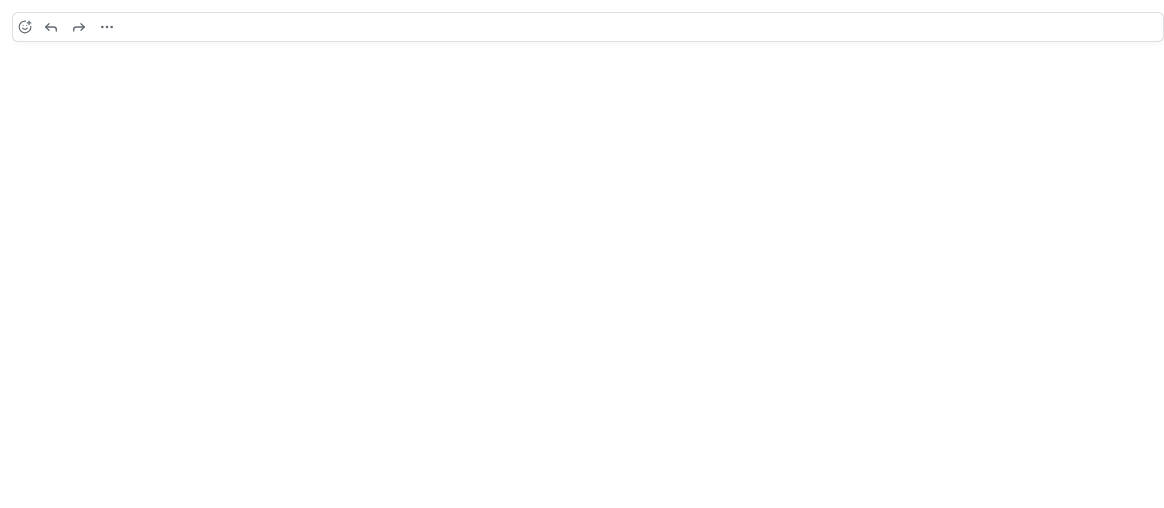
Test: messageActionBar › opens the defer submenu in a dedicated fly-in panel
What coordinates should you click on to do the following:
click the button with test id "message-more-trigger"
I would click on:
 (107, 27)
Its box is x1=93 y1=13 x2=121 y2=41.
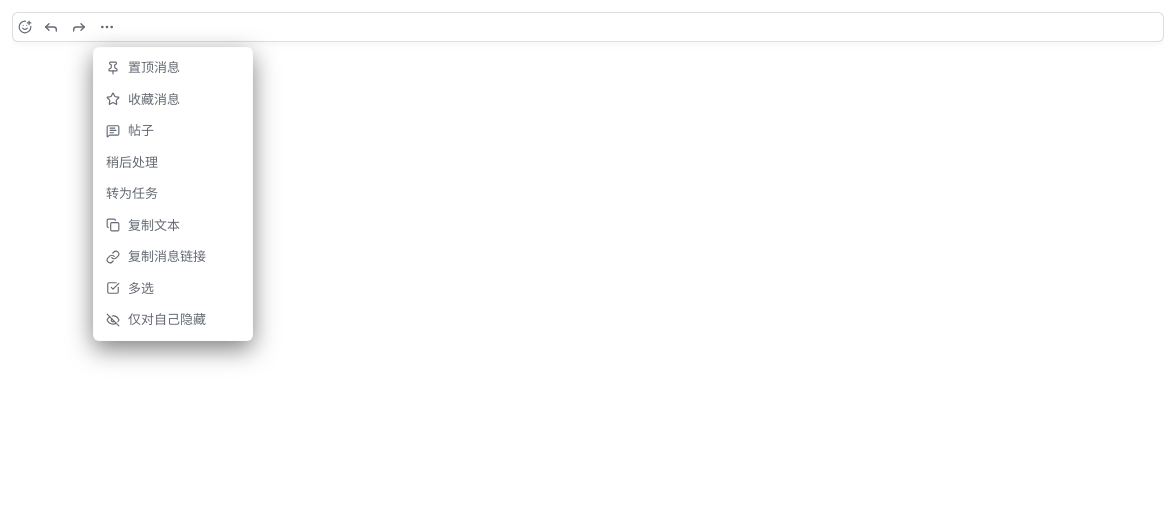
Expected: the button with test id "message-defer-trigger" is shown
What coordinates should you click on to do the following:
click the button with test id "message-defer-trigger"
I would click on:
 (173, 162)
Its box is x1=94 y1=146 x2=252 y2=178.
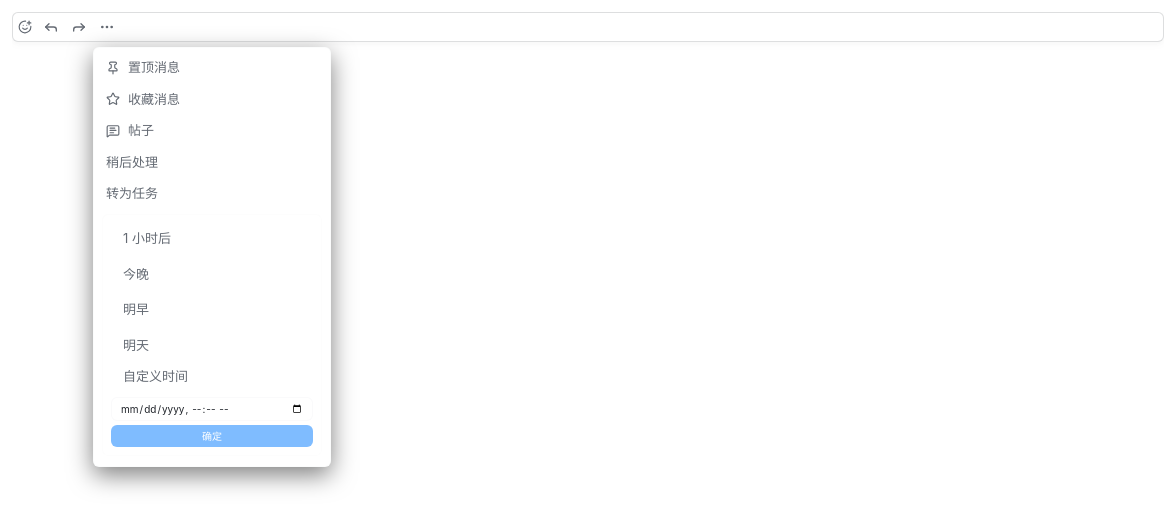
Expected: the menu with test id "message-defer-submenu" is shown, x1=102 y1=214 x2=322 y2=455
Expected: the button with test id "message-defer-trigger" is expanded, x1=94 y1=146 x2=330 y2=178
